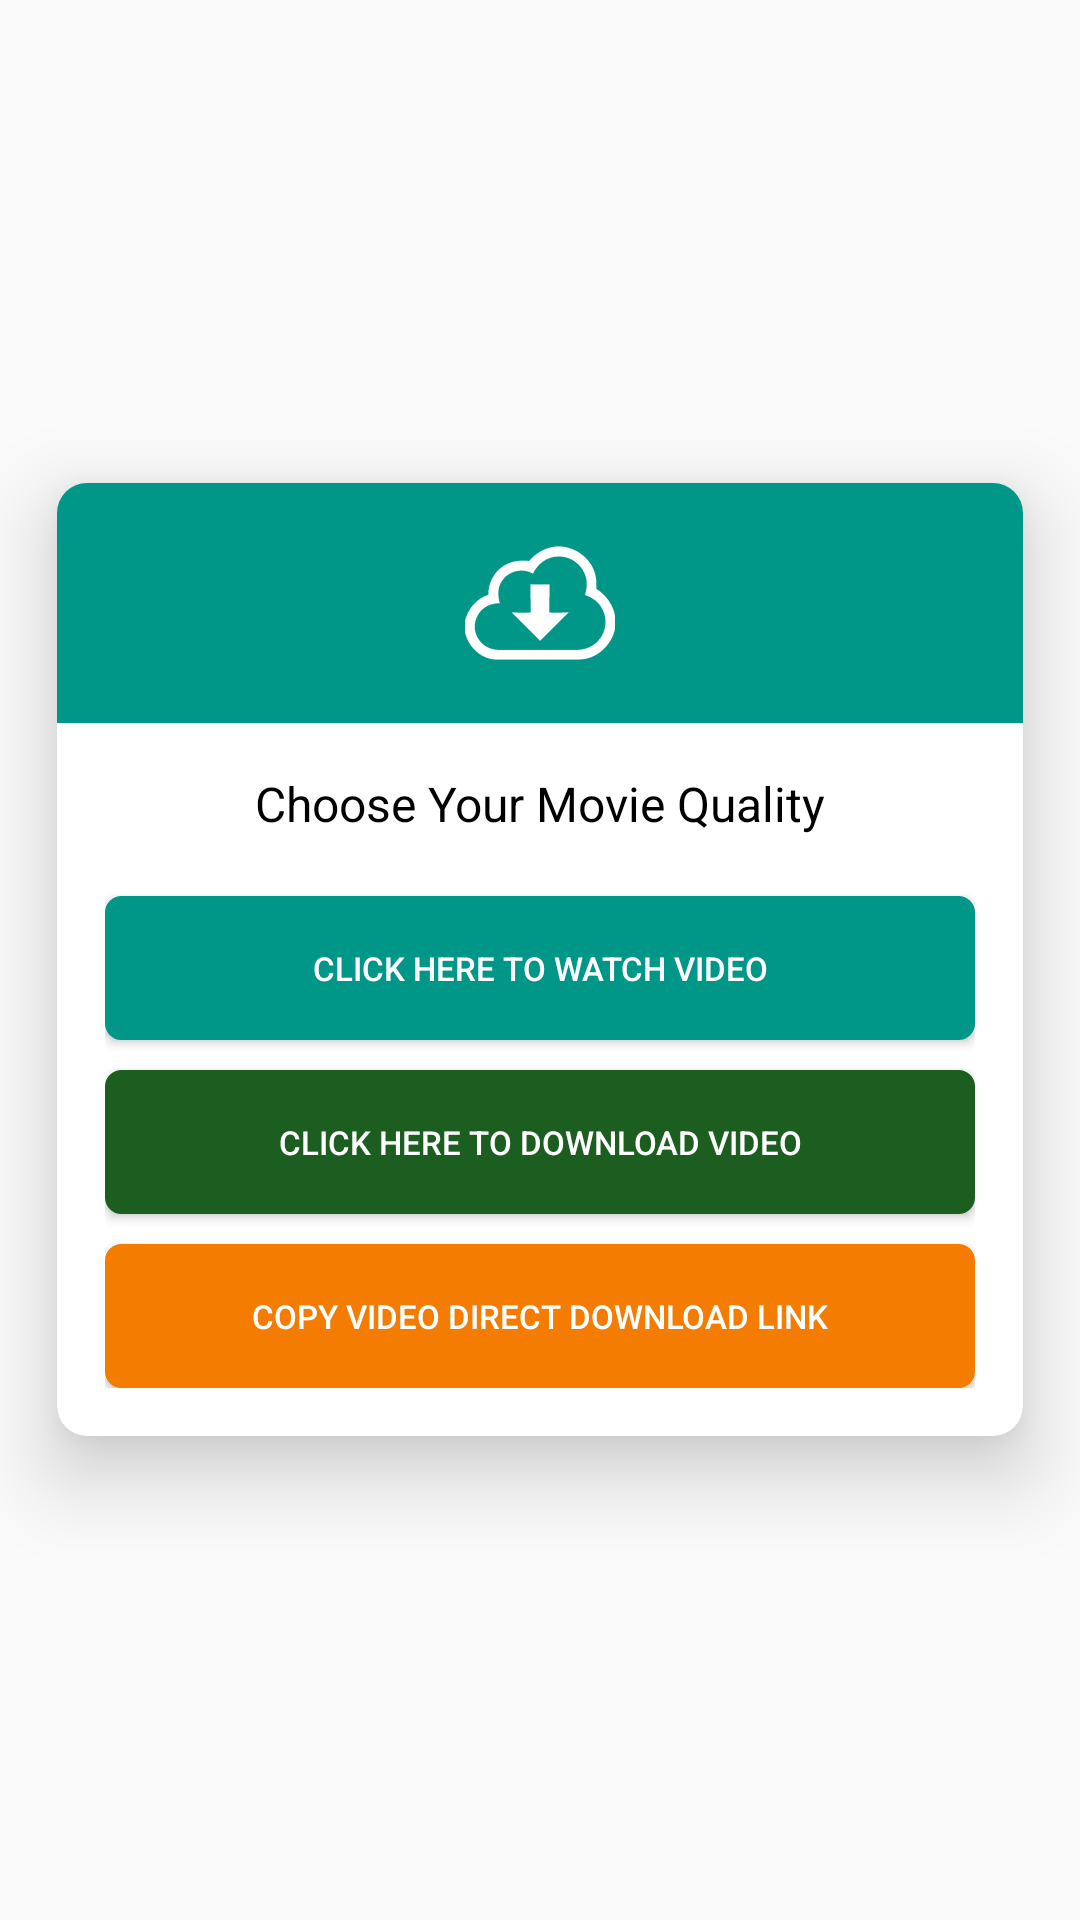

Screen size 1080*1920. Icon name, then its center in pixels as [x,y]:
download alert: [540,603]
